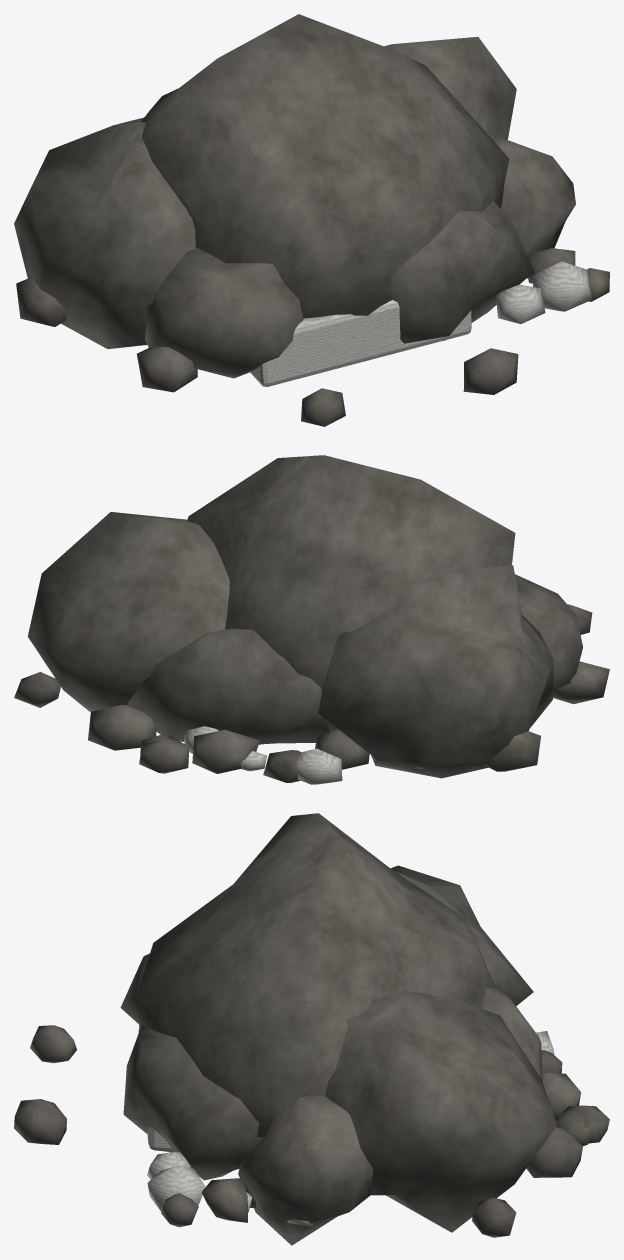
Rendered from deposit_0.glb.
3 views of the same model, one above another, from view 1: azimuth 30°, elevation 25°; view 2: azimuth 150°, elevation 25°; view 3: azimuth 270°, elevation 25° (orthographic). The views are drawn at different scales.
Parts seen in each view (by area): view 1: deposit_0; view 2: deposit_0; view 3: deposit_0.
Boxes of the visible parts, x1=… form: deposit_0: x1=14, y1=14, x2=609, y2=426; deposit_0: x1=14, y1=455, x2=609, y2=784; deposit_0: x1=14, y1=813, x2=609, y2=1245.
Size of the model in its own units: 2.74 by 1.57 by 2.78.
Materials: 1 (1 with a texture image).
